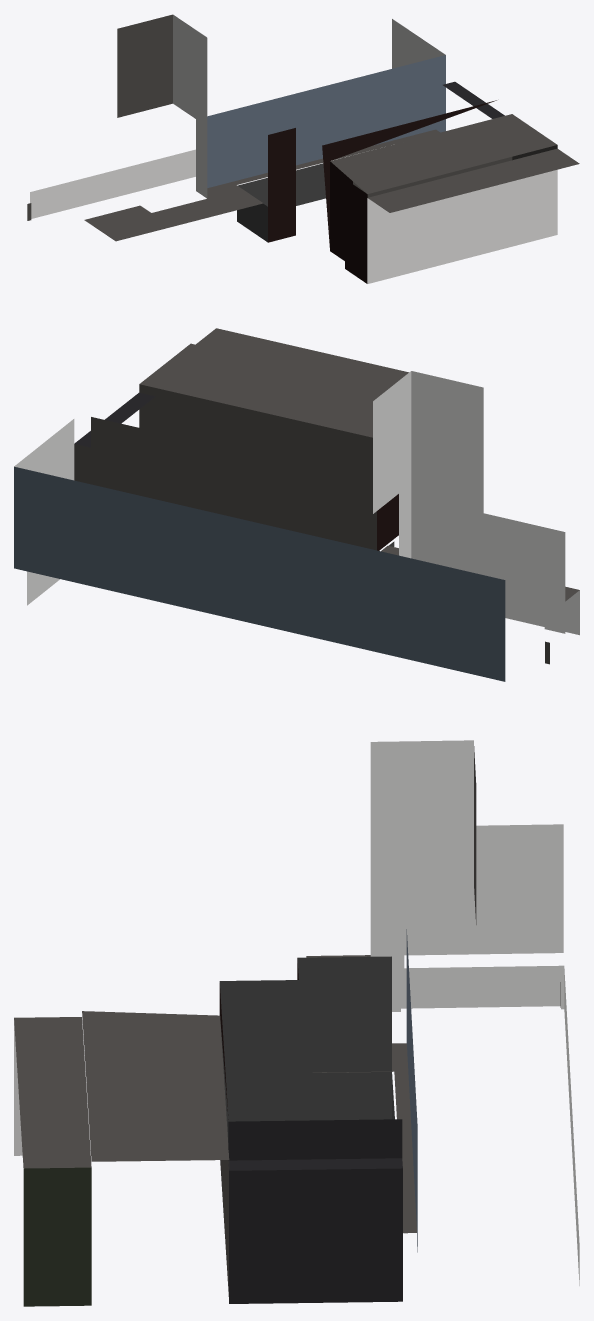
The model's file is capitol-mark-bank-trust-fsg-bank.glb.
3 views of the same model, one above another, from view 1: azimuth 30°, elevation 25°; view 2: azimuth 150°, elevation 25°; view 3: azimuth 270°, elevation 25° (orthographic). The views are drawn at different scales.
Parts seen in each view (by area): view 1: LOD0; view 2: LOD0; view 3: LOD0.
Part boxes in pixels (box(x1,y1,x2,y2)): LOD0: box(27, 14, 579, 283); LOD0: box(14, 328, 579, 681); LOD0: box(14, 740, 579, 1306).
Size of what is drawn, in the model's own units: 78.94 by 37.4 by 60.91.
2 materials, 2 textured.
